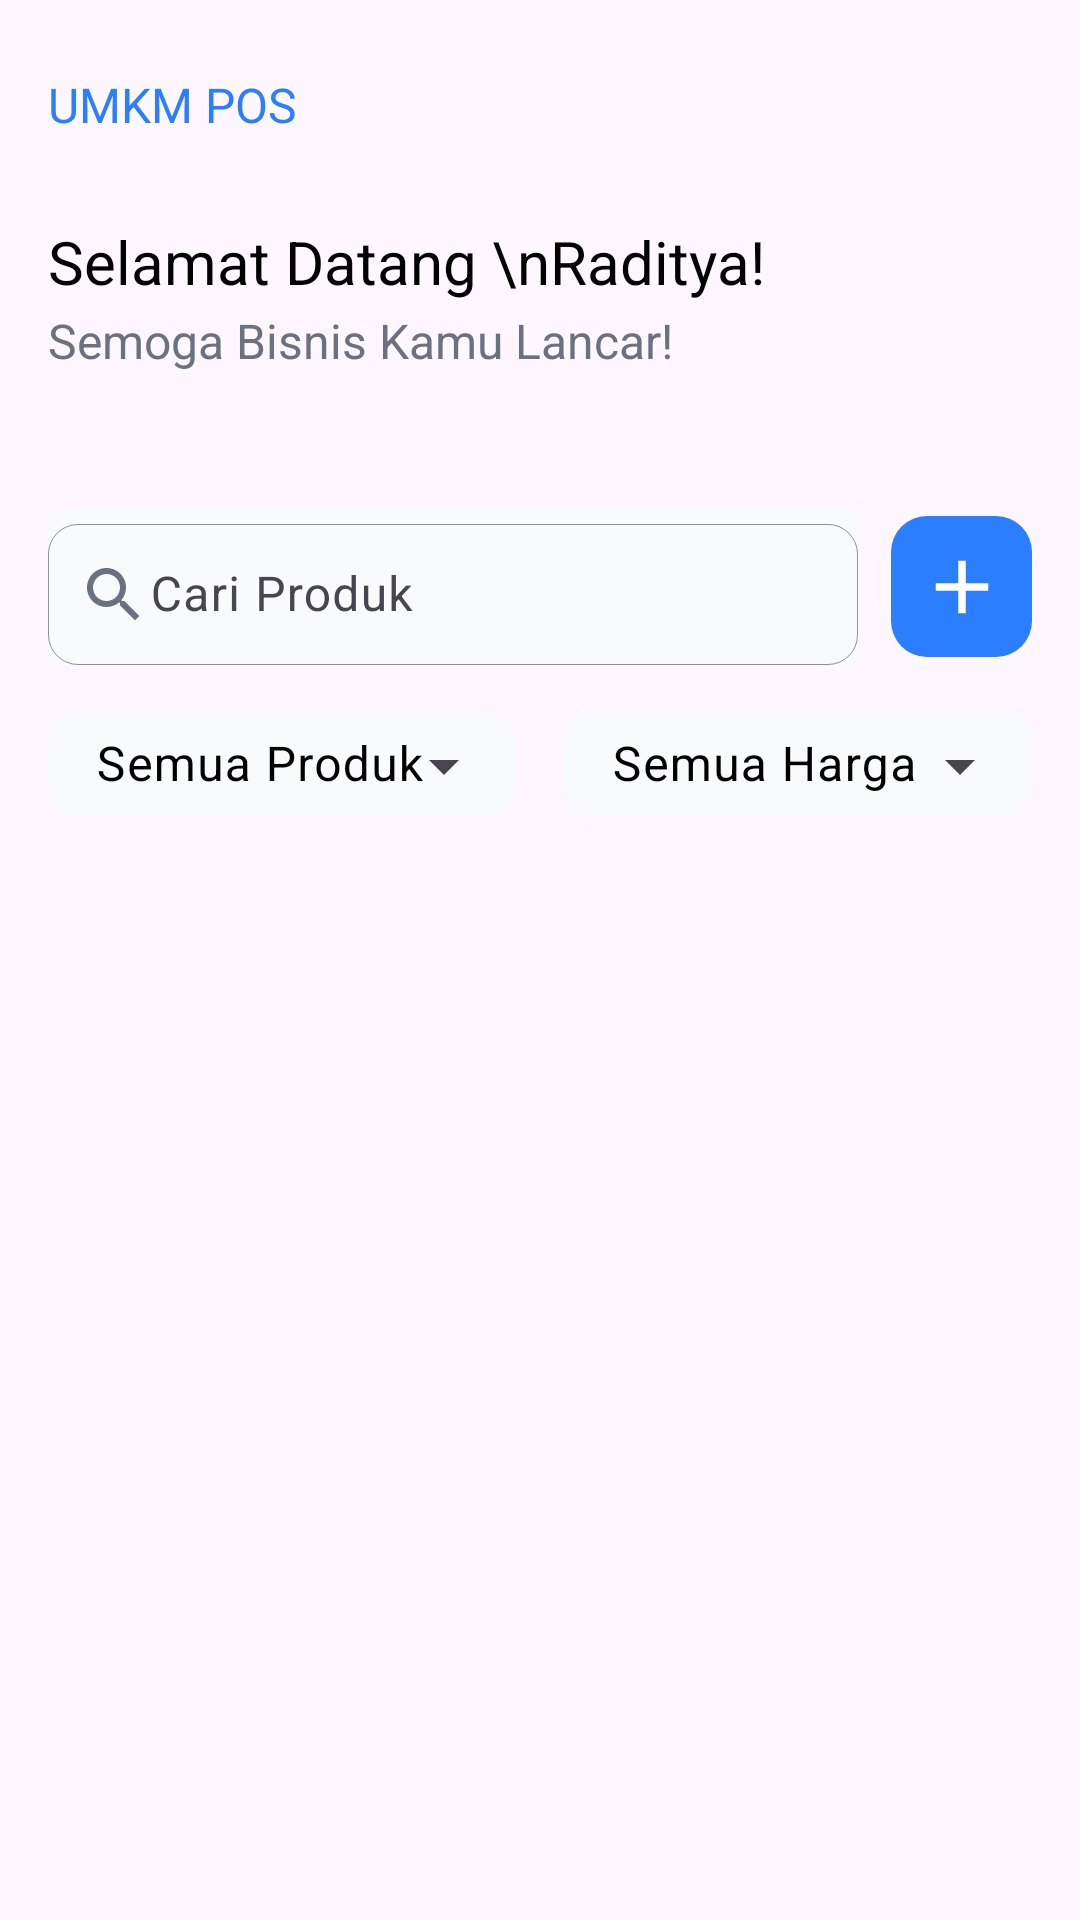

Icons on this 1080w x 1920h Android screen, each with the point to tap as point (x, y):
plus: point (961, 586)
